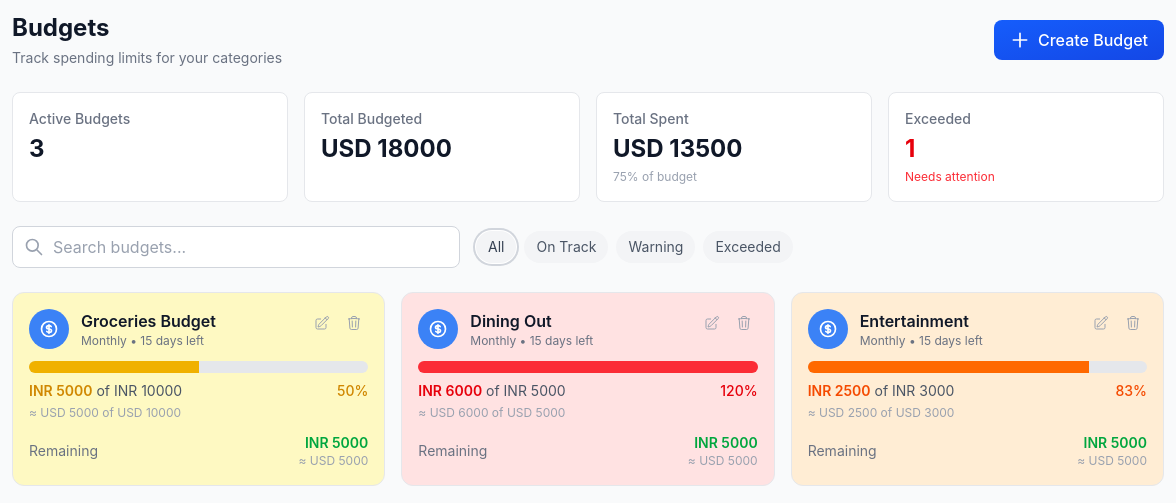
Test: BudgetsPage › Filter and Search › should filter budgets when filter is clicked
Expected: the heading "Dining Out" is shown, [470,311,552,331]
# Click "Exceeded" filter - use getByRole to target the button specifically
Click the button "Exceeded".
click(748, 247)  # box [703,231,793,263]
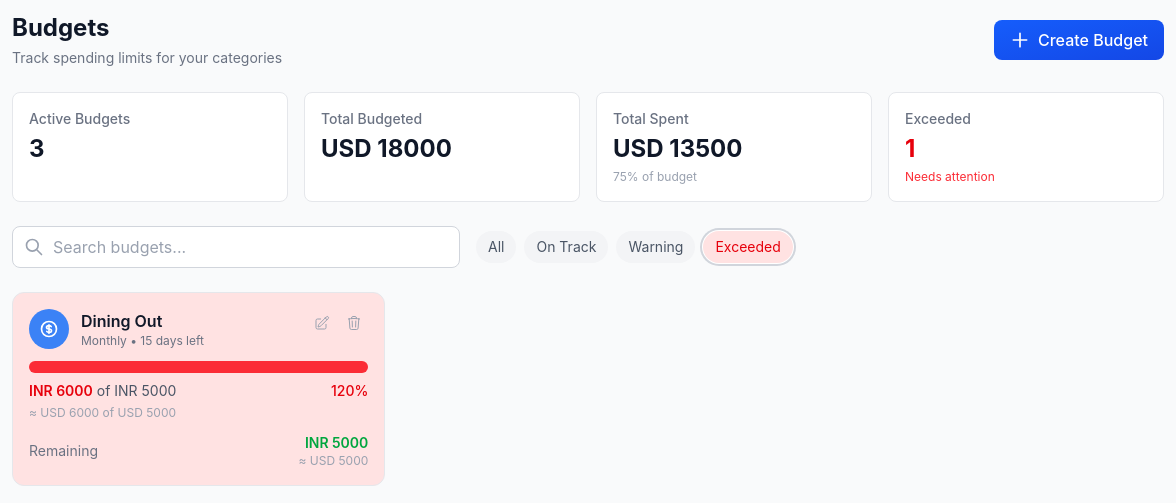
Expected: the heading "Dining Out" is shown, [81,311,162,331]
Expected: the heading "Groceries Budget" is gone
